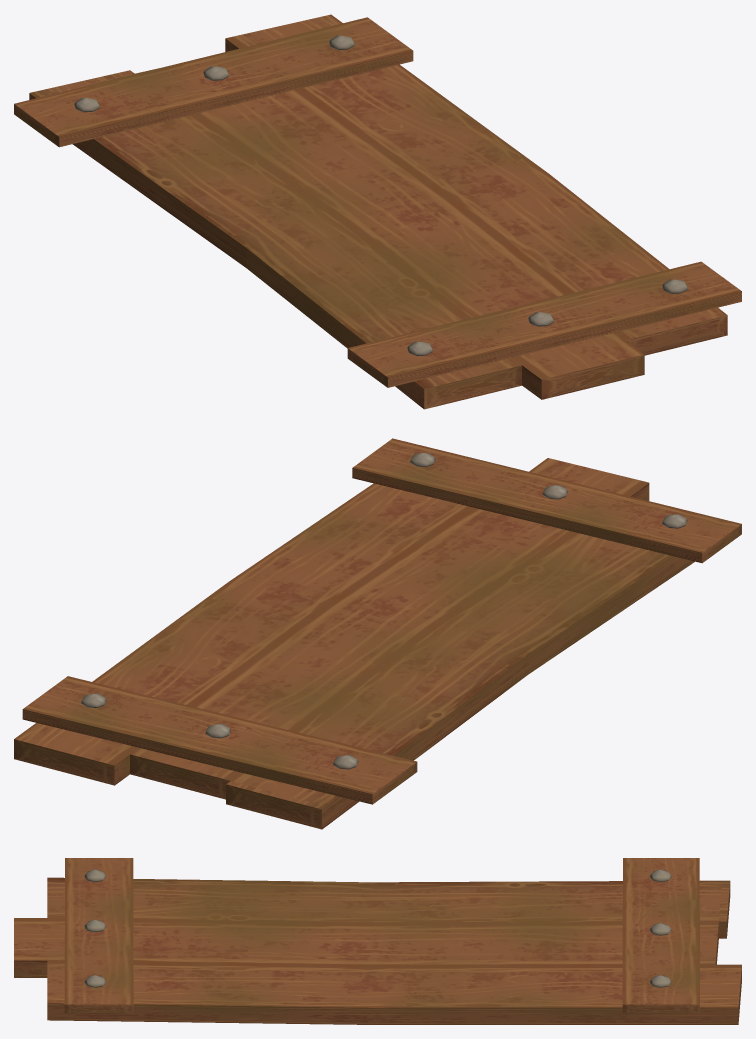
File: plank_big.fbx
The picture shows the model from 3 angles, top to bottom: view 1: azimuth 30°, elevation 25°; view 2: azimuth 150°, elevation 25°; view 3: azimuth 270°, elevation 25°; orthographic projection. The views are drawn at different scales.
Parts seen in each view (by area): view 1: Wood_1.001, Wood_1.003, Wood_1.002, Cube.003; view 2: Wood_1.001, Wood_1.003, Wood_1.002, Cube.003; view 3: Wood_1.001, Wood_1.003, Wood_1.002, Cube.003.
Part boxes in pixels (x1,y1,x2,y2): Wood_1.001: (29, 14, 727, 409); Wood_1.003: (14, 17, 413, 147); Wood_1.002: (347, 261, 741, 387); Cube.003: (74, 35, 687, 356); Wood_1.001: (14, 458, 694, 829); Wood_1.003: (22, 676, 417, 804); Wood_1.002: (352, 438, 741, 563); Cube.003: (81, 453, 687, 769); Wood_1.001: (14, 877, 741, 1024); Wood_1.003: (622, 858, 699, 1013); Wood_1.002: (64, 858, 133, 1013); Cube.003: (84, 869, 671, 987).
Size of the model in its own units: 329 by 36.41 by 691.
